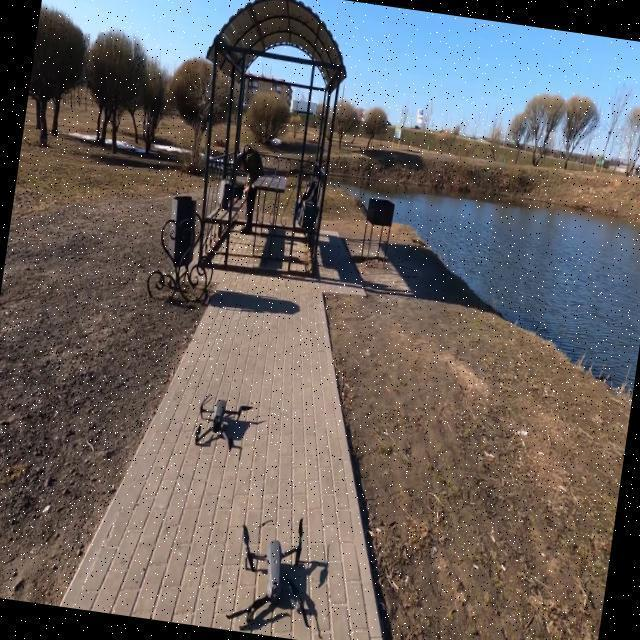Drons: (222, 516, 344, 638), (180, 382, 263, 462)
